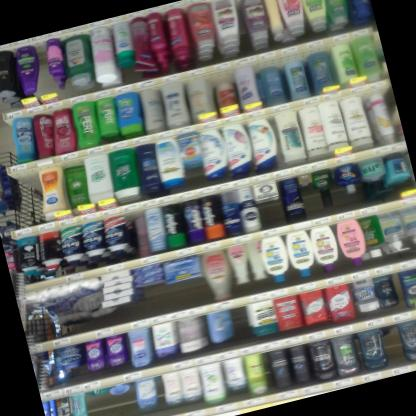empty_space: (12, 168, 48, 222), (228, 303, 253, 340)
